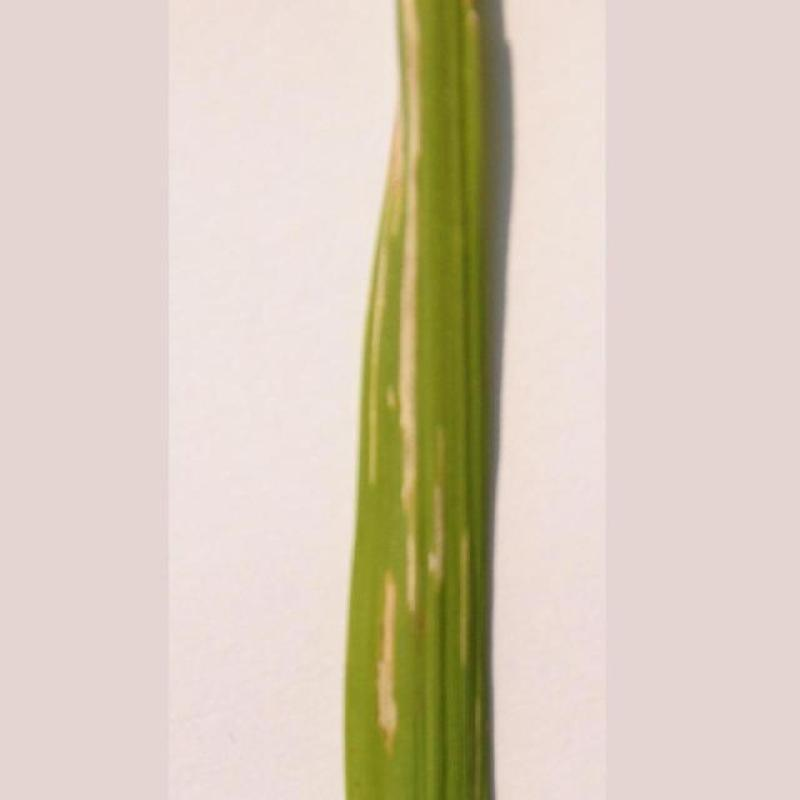Bacterial_Leaf_Blight: (342, 374, 496, 776), (355, 7, 463, 347)
